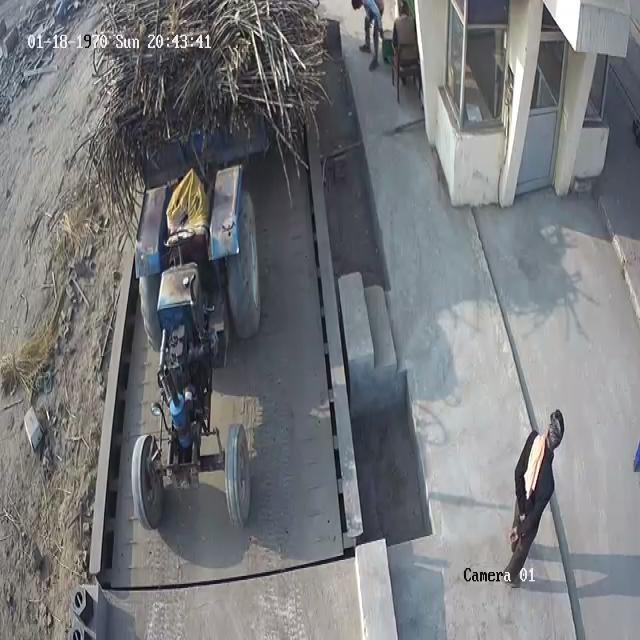Tratores - v5 YOLO V8L 2024-11-13: (130, 167, 262, 530)
